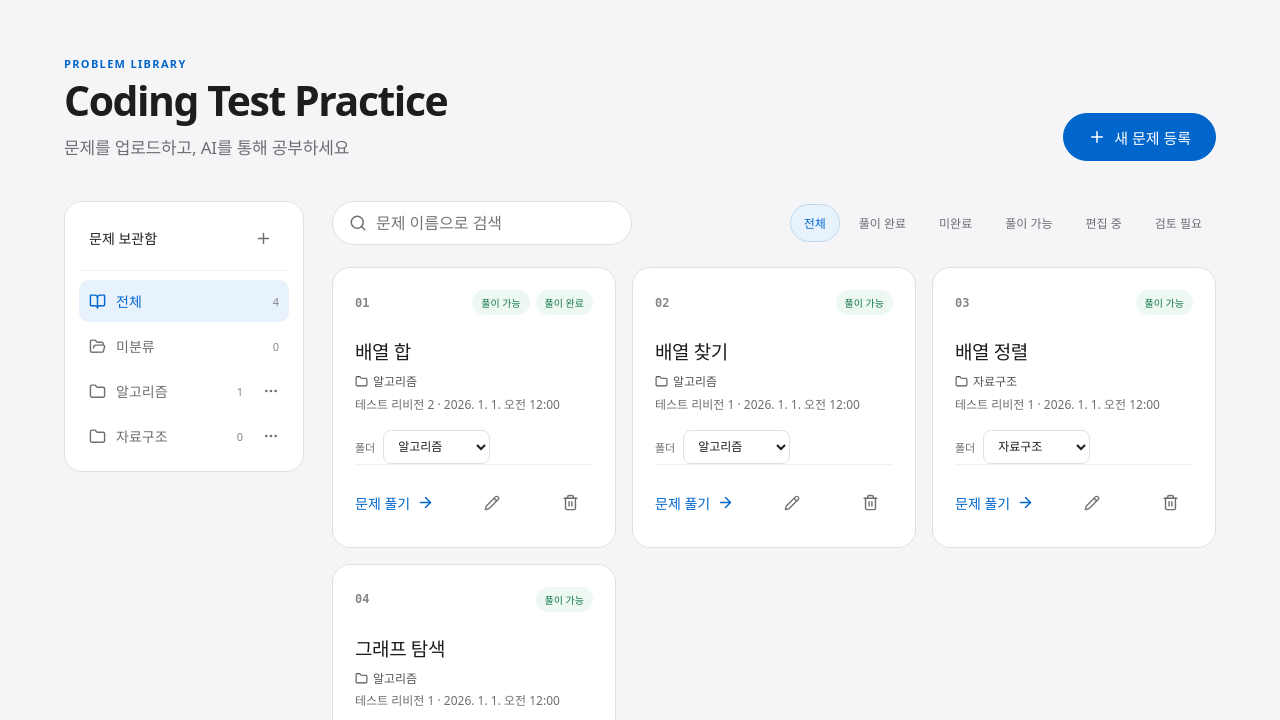
it: LibraryPage folders › intersects the unsolved filter with the selected folder and search text
This screenshot has width=1280, height=720.
Expected: the heading "배열 찾기" is shown, [655,339,728,365]
Click the button "알고리즘 1".
click(166, 391)  # box [79,370,253,412]
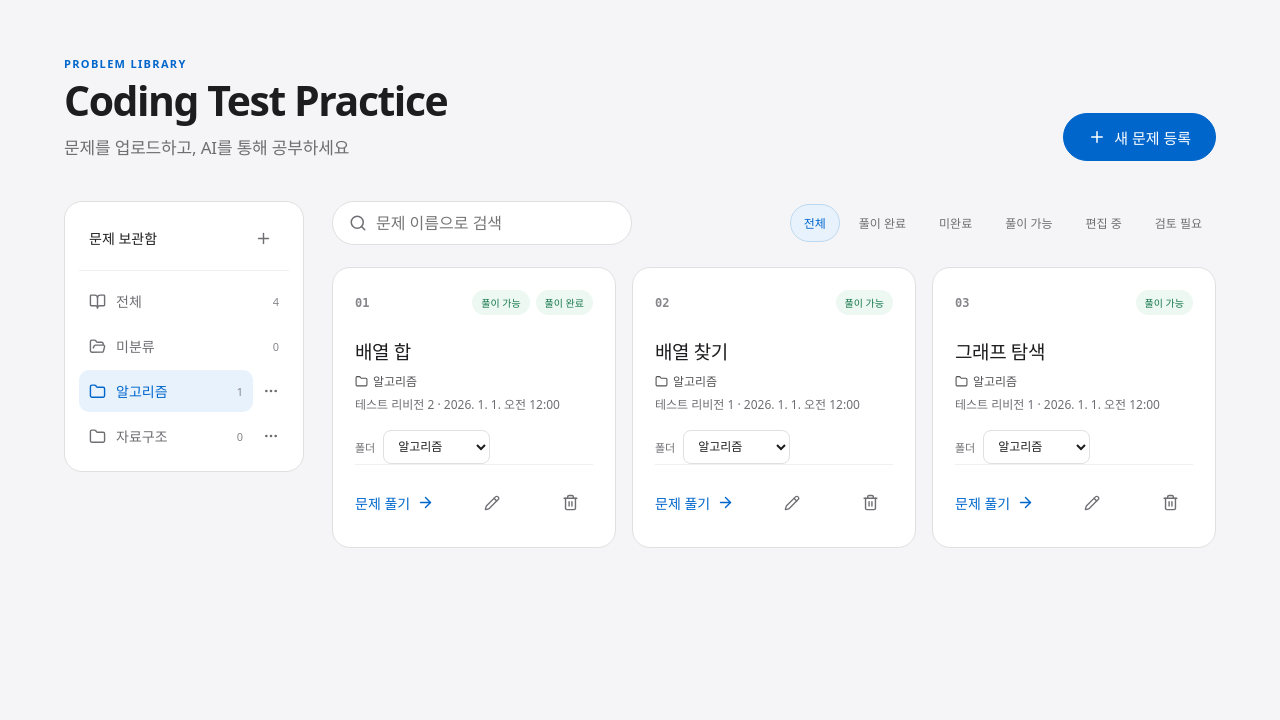
Type "배열" into the field named "문제 검색".
click(496, 223); type("배열")  # box [376,212,615,234]
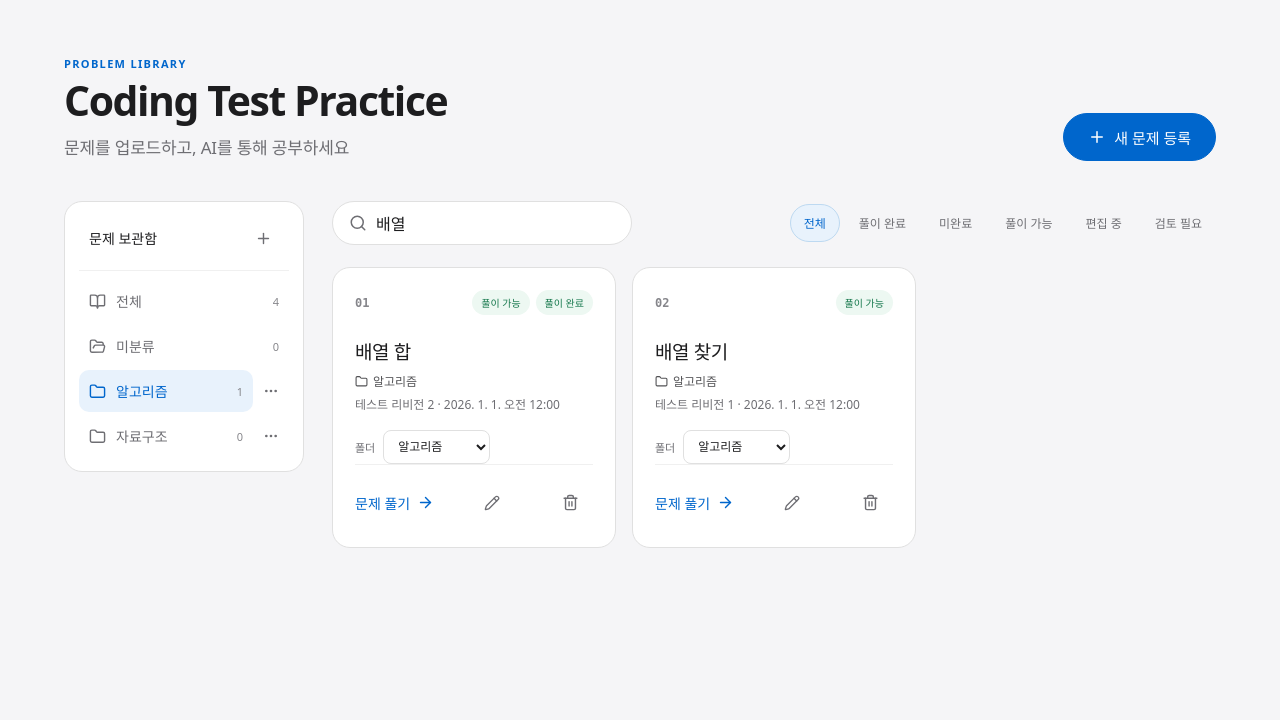
Click the button "미완료".
click(956, 223)  # box [925,204,986,242]
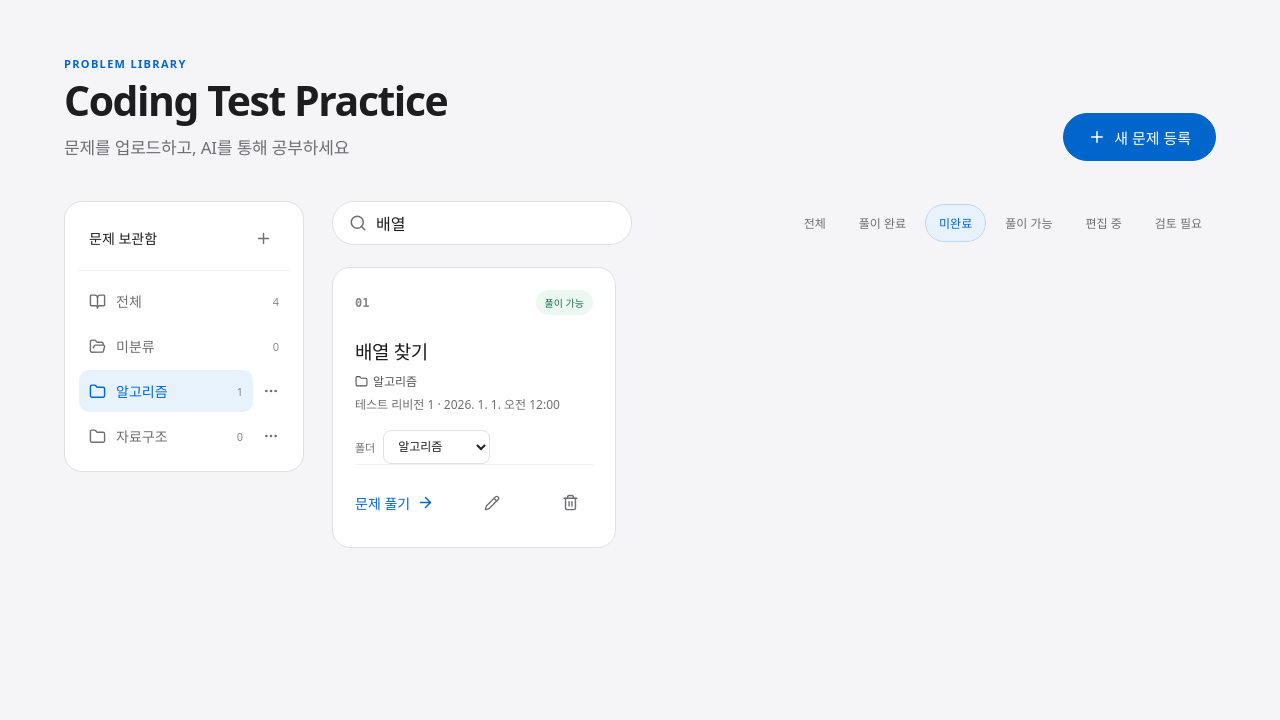
Expected: the heading "배열 찾기" is shown, [355,339,428,365]
Expected: the heading "배열 합" is gone
